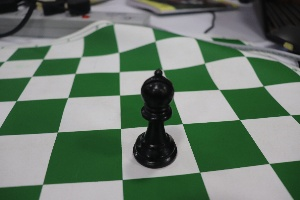black_bishop: (130, 56, 183, 173)
